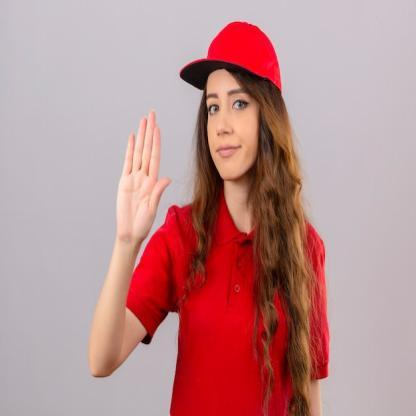stop: (114, 104, 173, 246)
